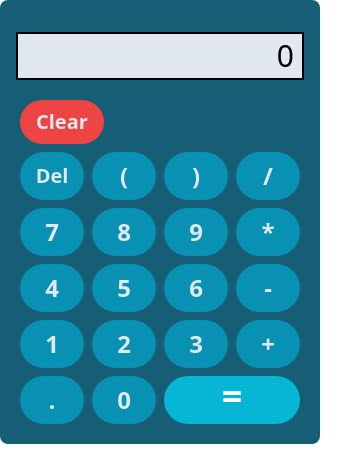
Test: Se debe verificar que se realice una suma correctamente
Click the button "4" at coordinates (52, 288), box left=20, top=264, right=84, bottom=312
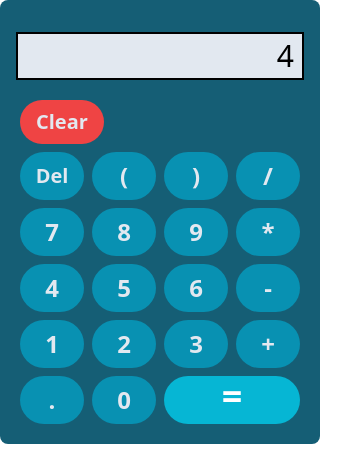
Click the button "2" at coordinates (124, 344), box left=92, top=320, right=156, bottom=368
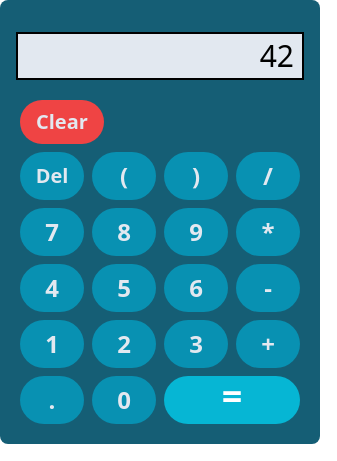
Click the button "+" at coordinates (268, 344), box left=236, top=320, right=300, bottom=368
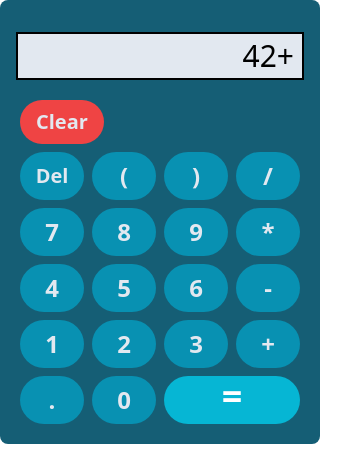
Click the button "3" at coordinates (196, 344), box left=164, top=320, right=228, bottom=368
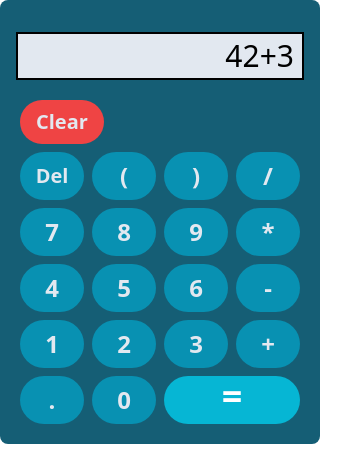
Click the button "1" at coordinates (52, 344), box left=20, top=320, right=84, bottom=368
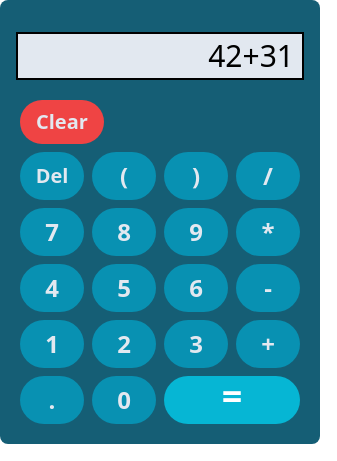
Click the button "=" at coordinates (232, 400), box left=164, top=376, right=300, bottom=424
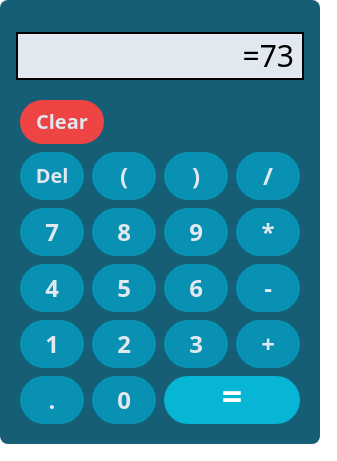
Check: the field holds "=73", box left=16, top=32, right=304, bottom=80
